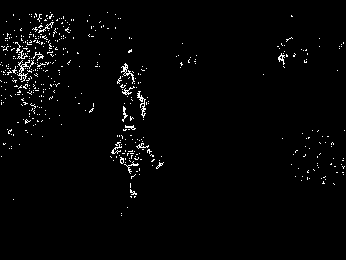person: (109, 113, 164, 201), (117, 61, 138, 121)
